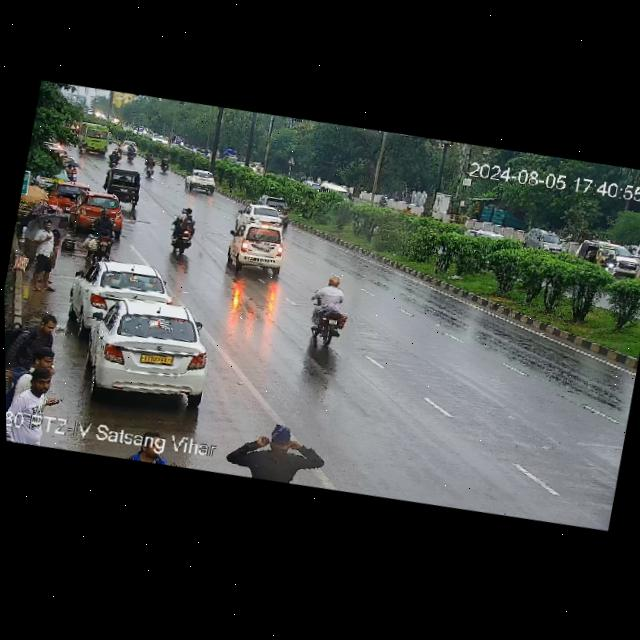bus: (78, 120, 113, 157)
car: (79, 287, 219, 409), (71, 250, 176, 332), (219, 214, 293, 282), (64, 187, 131, 236), (97, 165, 149, 206), (236, 200, 285, 237), (524, 224, 569, 259), (255, 189, 294, 229), (183, 168, 222, 197), (580, 239, 616, 265), (120, 139, 140, 156)
motorcycle: (295, 273, 359, 356), (159, 204, 206, 260), (79, 206, 118, 265), (601, 251, 619, 279), (104, 149, 125, 168), (159, 152, 171, 176), (144, 156, 157, 176), (77, 138, 90, 158), (127, 143, 139, 163), (144, 148, 155, 163), (114, 145, 122, 161), (379, 195, 388, 208), (405, 204, 415, 214)
person: (4, 299, 75, 408), (237, 421, 324, 491), (24, 218, 61, 293), (44, 215, 70, 269)
